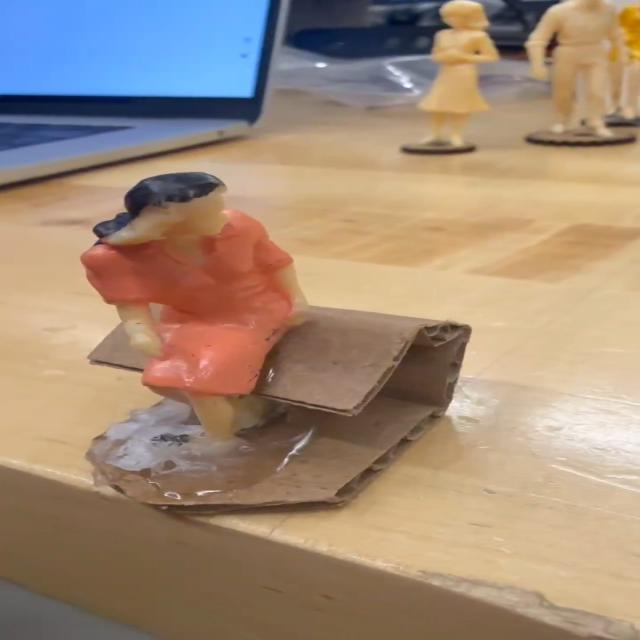Authorized: (51, 148, 549, 588)
